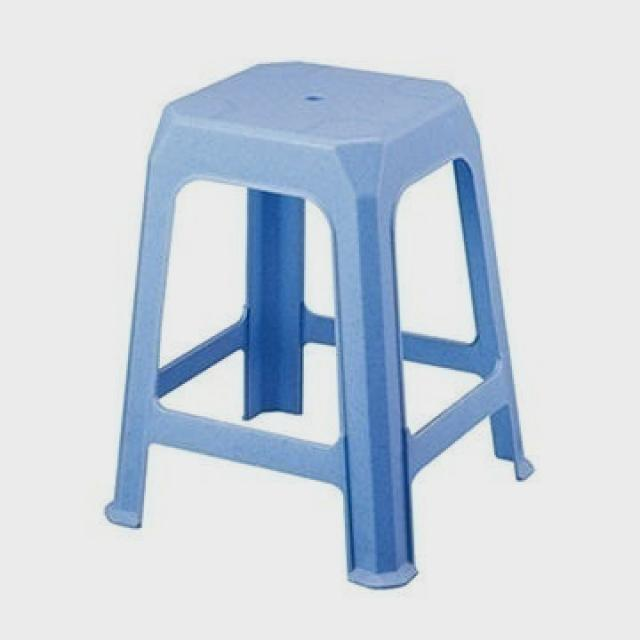Chair: (108, 58, 538, 598)
